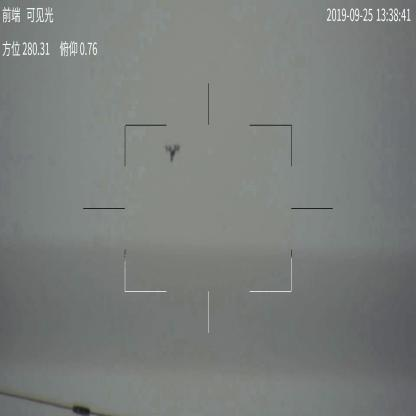uav: (164, 142, 182, 162)
